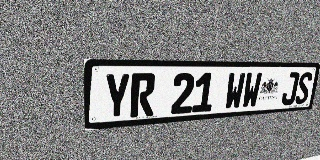1: (192, 73, 215, 113)
2: (171, 73, 195, 114)
J: (280, 72, 300, 105)
R: (130, 73, 156, 117)
S: (294, 72, 313, 104)
W: (224, 72, 246, 110), (241, 72, 262, 109)
Y: (104, 73, 131, 120)
